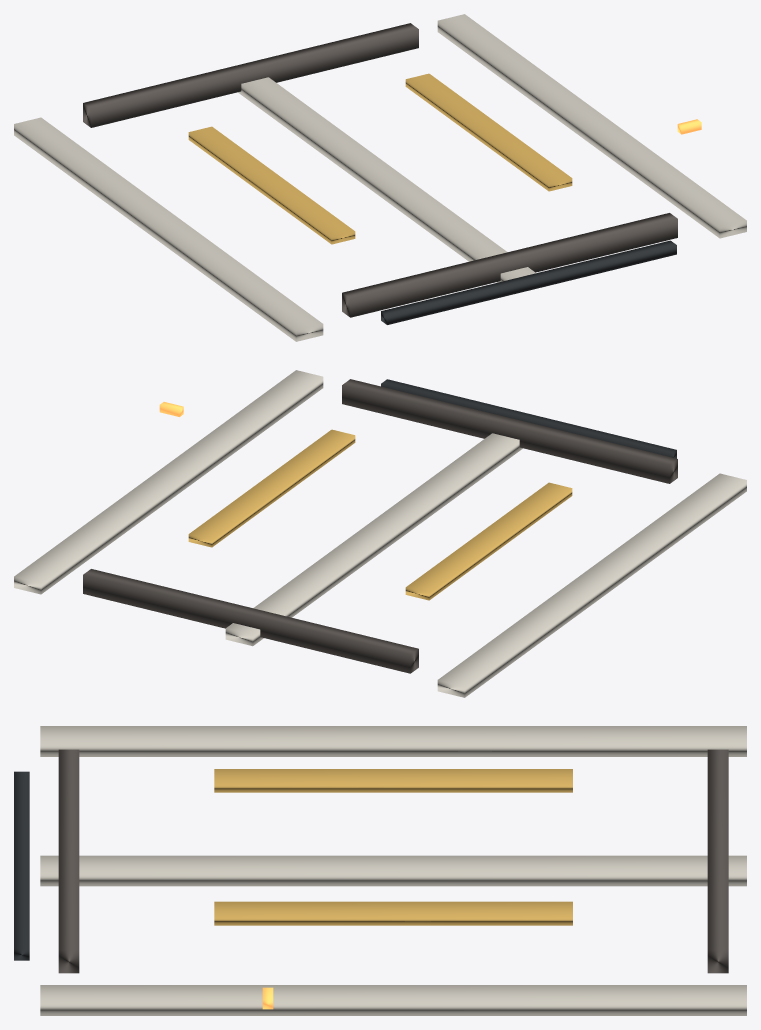
The model's file is solar-yard-transfer-rail-lod1.glb.
The picture shows the model from 3 angles, top to bottom: view 1: azimuth 30°, elevation 25°; view 2: azimuth 150°, elevation 25°; view 3: azimuth 270°, elevation 25°; orthographic projection. The views are drawn at different scales.
Parts seen in each view (by area): view 1: solar-yard-transfer-rail-sleeper-left, solar-yard-transfer-rail-sleeper-right, solar-yard-transfer-rail-sleeper-center, solar-yard-transfer-rail-right, solar-yard-transfer-rail-left, solar-yard-transfer-rail-cable-channel, solar-yard-transfer-rail-gold-junction-left, solar-yard-transfer-rail-gold-junction-right; view 2: solar-yard-transfer-rail-sleeper-left, solar-yard-transfer-rail-sleeper-right, solar-yard-transfer-rail-sleeper-center, solar-yard-transfer-rail-left, solar-yard-transfer-rail-right, solar-yard-transfer-rail-gold-junction-left, solar-yard-transfer-rail-gold-junction-right, solar-yard-transfer-rail-cable-channel; view 3: solar-yard-transfer-rail-sleeper-right, solar-yard-transfer-rail-sleeper-left, solar-yard-transfer-rail-sleeper-center, solar-yard-transfer-rail-gold-junction-right, solar-yard-transfer-rail-gold-junction-left, solar-yard-transfer-rail-left, solar-yard-transfer-rail-right, solar-yard-transfer-rail-cable-channel.
Part boxes in pixels (left/top/right/bottom): solar-yard-transfer-rail-sleeper-left: left=14, top=117, right=323, bottom=341; solar-yard-transfer-rail-sleeper-right: left=437, top=14, right=746, bottom=238; solar-yard-transfer-rail-sleeper-center: left=238, top=77, right=535, bottom=282; solar-yard-transfer-rail-right: left=342, top=213, right=677, bottom=317; solar-yard-transfer-rail-left: left=83, top=23, right=418, bottom=127; solar-yard-transfer-rail-cable-channel: left=381, top=240, right=676, bottom=324; solar-yard-transfer-rail-gold-junction-left: left=188, top=126, right=355, bottom=244; solar-yard-transfer-rail-gold-junction-right: left=405, top=73, right=572, bottom=191; solar-yard-transfer-rail-sleeper-left: left=437, top=473, right=746, bottom=697; solar-yard-transfer-rail-sleeper-right: left=14, top=370, right=323, bottom=594; solar-yard-transfer-rail-sleeper-center: left=225, top=433, right=522, bottom=646; solar-yard-transfer-rail-left: left=83, top=569, right=418, bottom=673; solar-yard-transfer-rail-right: left=342, top=379, right=677, bottom=483; solar-yard-transfer-rail-gold-junction-left: left=405, top=482, right=572, bottom=600; solar-yard-transfer-rail-gold-junction-right: left=188, top=429, right=355, bottom=547; solar-yard-transfer-rail-cable-channel: left=381, top=379, right=676, bottom=458; solar-yard-transfer-rail-sleeper-right: left=40, top=985, right=746, bottom=1015; solar-yard-transfer-rail-sleeper-left: left=40, top=726, right=746, bottom=756; solar-yard-transfer-rail-sleeper-center: left=40, top=855, right=746, bottom=886; solar-yard-transfer-rail-gold-junction-right: left=214, top=901, right=572, bottom=925; solar-yard-transfer-rail-gold-junction-left: left=214, top=769, right=572, bottom=792; solar-yard-transfer-rail-left: left=707, top=749, right=728, bottom=973; solar-yard-transfer-rail-right: left=58, top=749, right=79, bottom=973; solar-yard-transfer-rail-cable-channel: left=14, top=771, right=29, bottom=960.
Size of the model in its own units: 5.46 by 0.36 by 5.6.
